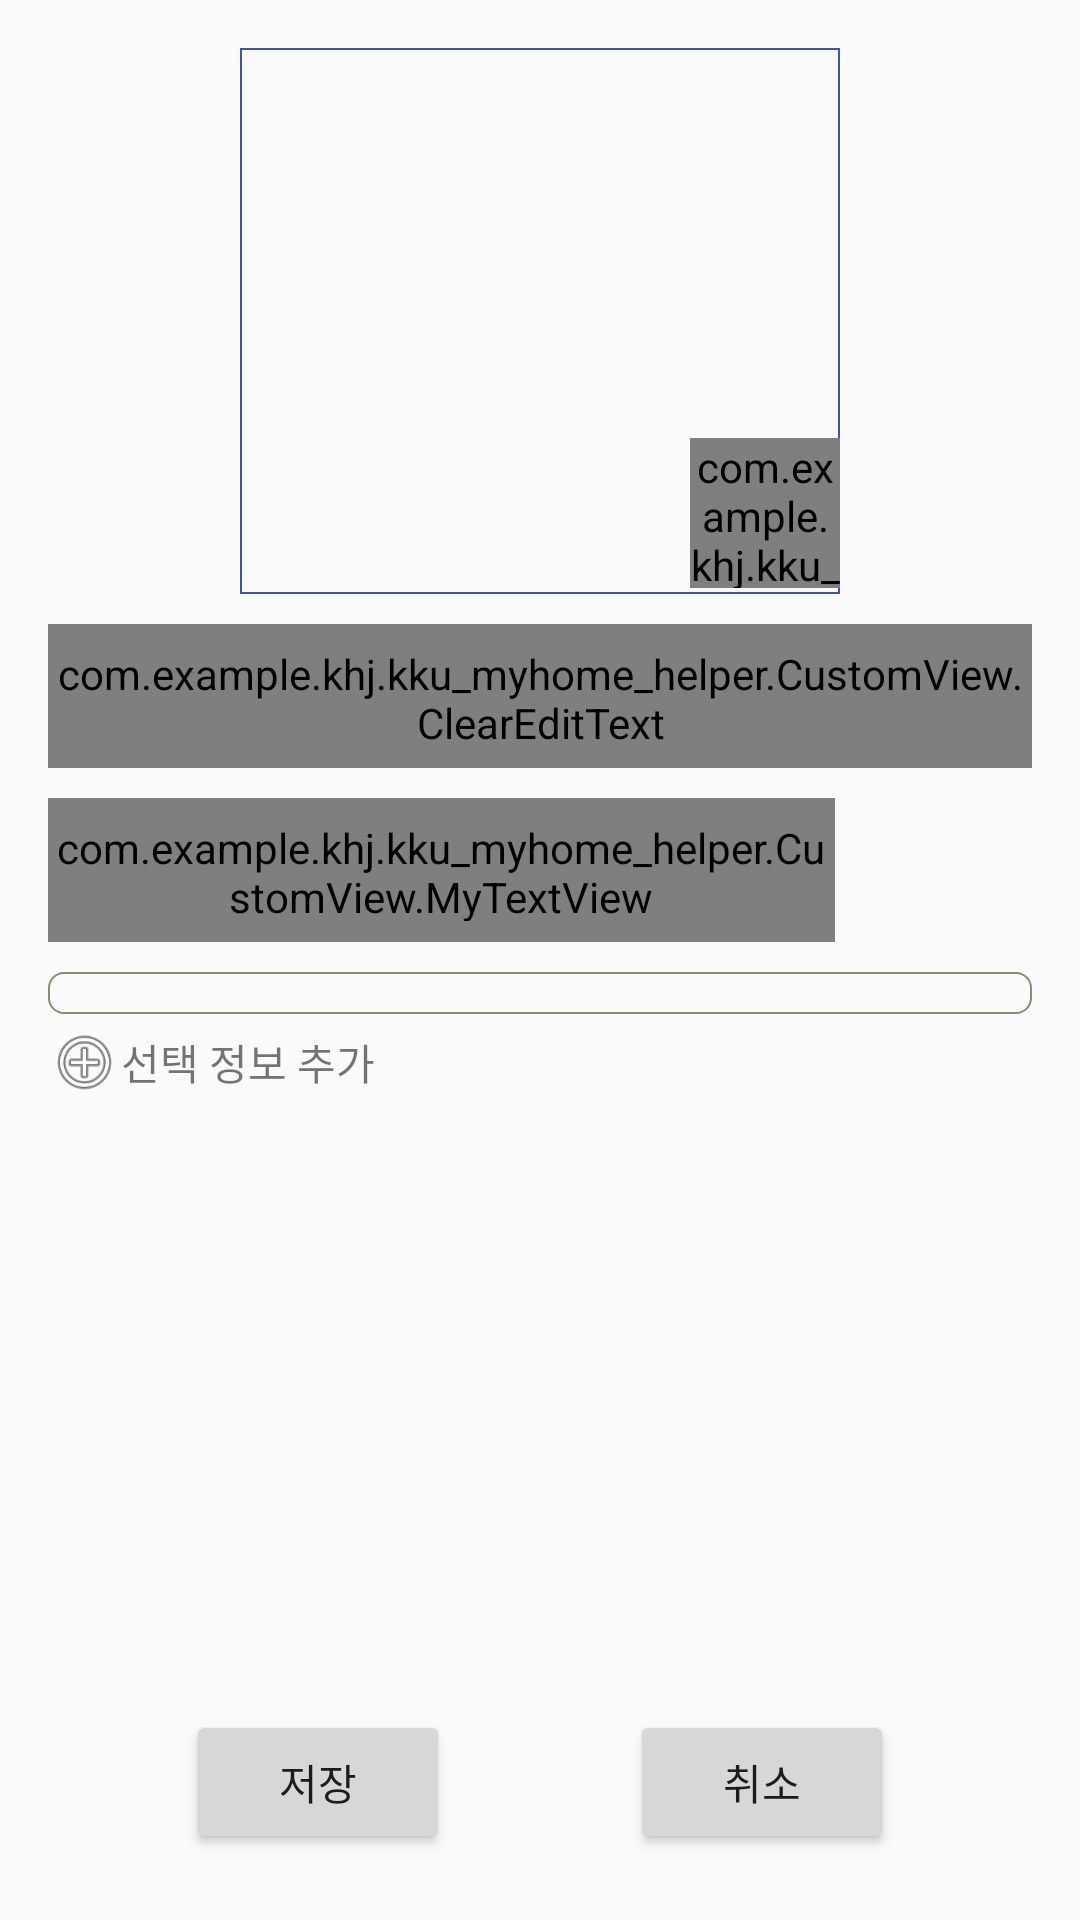

Screen size 1080×1920. Icon name, then its center in pixels as [x,y]:
add: [84,1062]
